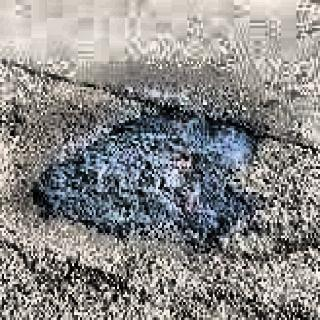pothole: (31, 90, 275, 258)
